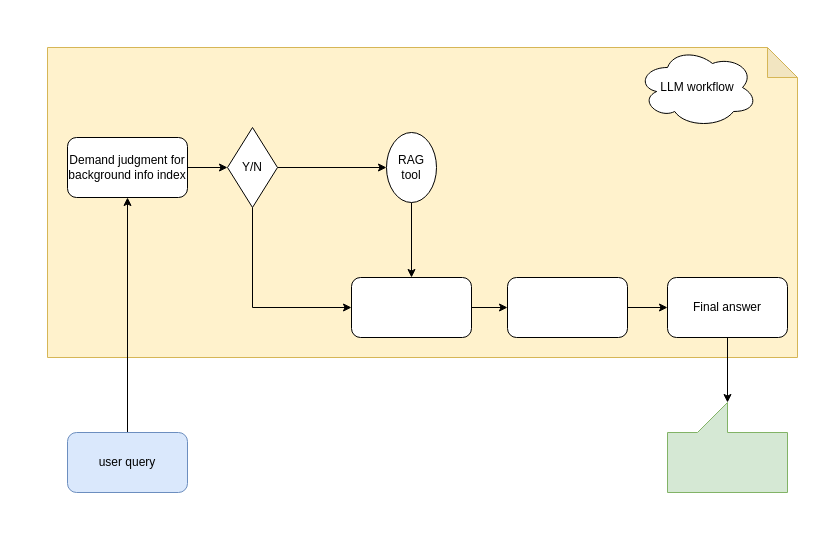
Some shapes in this 834 by 534 pixel diagram are drawn without their labels. Here are the shapes that lost their labels. From the top down, the box of each, then its label:
(350, 276, 472, 338): Initial answer
(506, 276, 628, 338): Answer review
(666, 402, 788, 492): AI answer
